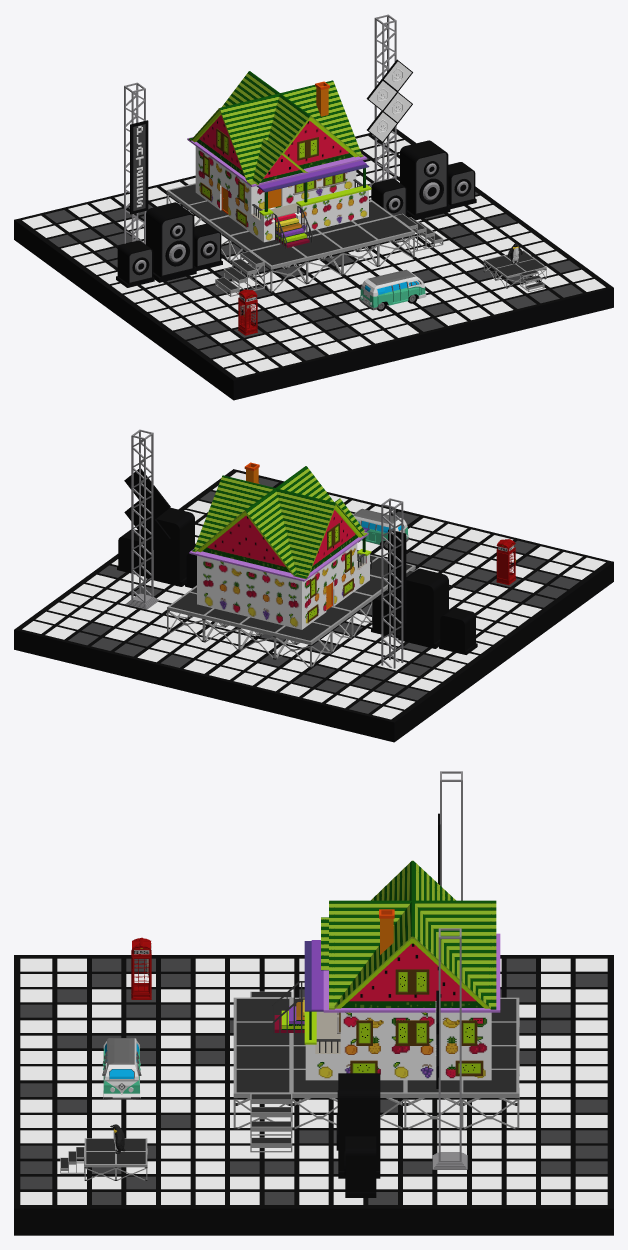
3 views of the same model, one above another, from view 1: azimuth 30°, elevation 25°; view 2: azimuth 150°, elevation 25°; view 3: azimuth 270°, elevation 25° (orthographic). The views are drawn at different scales.
Visible parts, largest first — view 1: Cube.008, Cube.1063, VEHICLES_VAN, OBJRANDOM_PHONEBOOTH; view 2: Cube.008, Cube.1063, VEHICLES_VAN, OBJRANDOM_PHONEBOOTH; view 3: Cube.008, Cube.1063, VEHICLES_VAN, OBJRANDOM_PHONEBOOTH.
Part boxes in pixels (x1=…): Cube.008: x1=14, y1=14, x2=613, y2=400; Cube.1063: x1=187, y1=71, x2=371, y2=248; VEHICLES_VAN: x1=359, y1=269, x2=426, y2=311; OBJRANDOM_PHONEBOOTH: x1=238, y1=289, x2=257, y2=335; Cube.008: x1=14, y1=429, x2=613, y2=742; Cube.1063: x1=189, y1=462, x2=372, y2=629; VEHICLES_VAN: x1=353, y1=508, x2=409, y2=550; OBJRANDOM_PHONEBOOTH: x1=496, y1=539, x2=516, y2=585; Cube.008: x1=14, y1=771, x2=613, y2=1235; Cube.1063: x1=272, y1=860, x2=500, y2=1080; VEHICLES_VAN: x1=102, y1=1038, x2=141, y2=1099; OBJRANDOM_PHONEBOOTH: x1=131, y1=937, x2=151, y2=999.
Bounding box in the file's own units: 4000 × 2073 × 4000.
44 materials, 3 textured.
